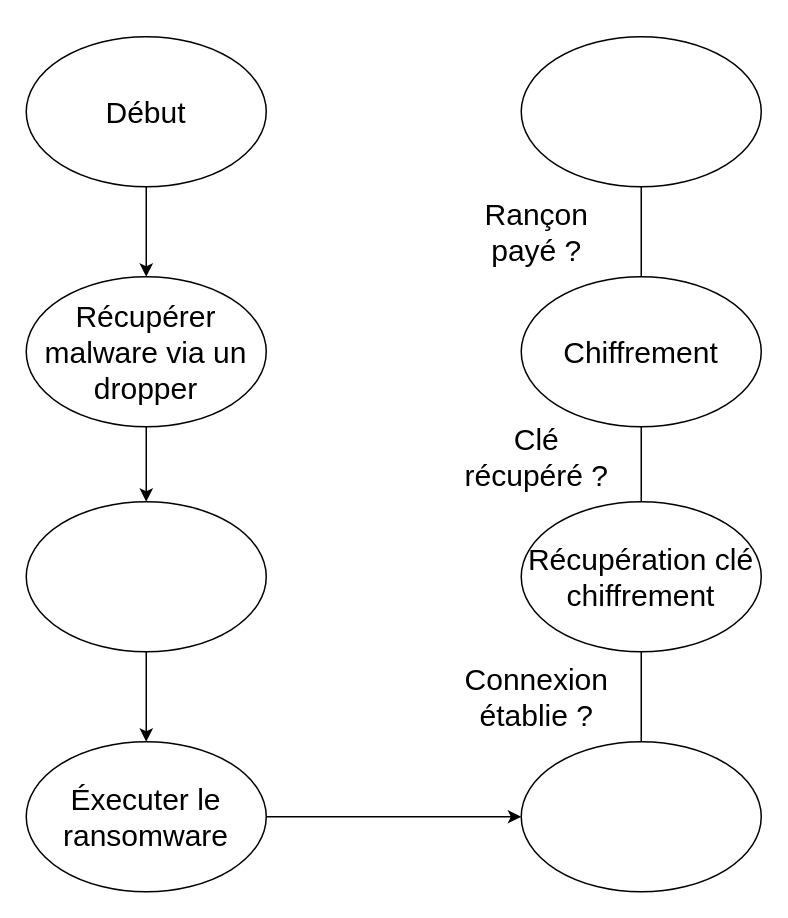
The diagram is 788 pixels wide and 918 high, and some of its shapes have lost their labels. The box of each missing label's shape, as (x1, y1, x2, y2) in pixels:
Connexion à l'attaquant: (520, 740, 761, 892)
Déchiffrement: (520, 35, 761, 187)
Déchiffrer malware: (25, 500, 266, 652)
